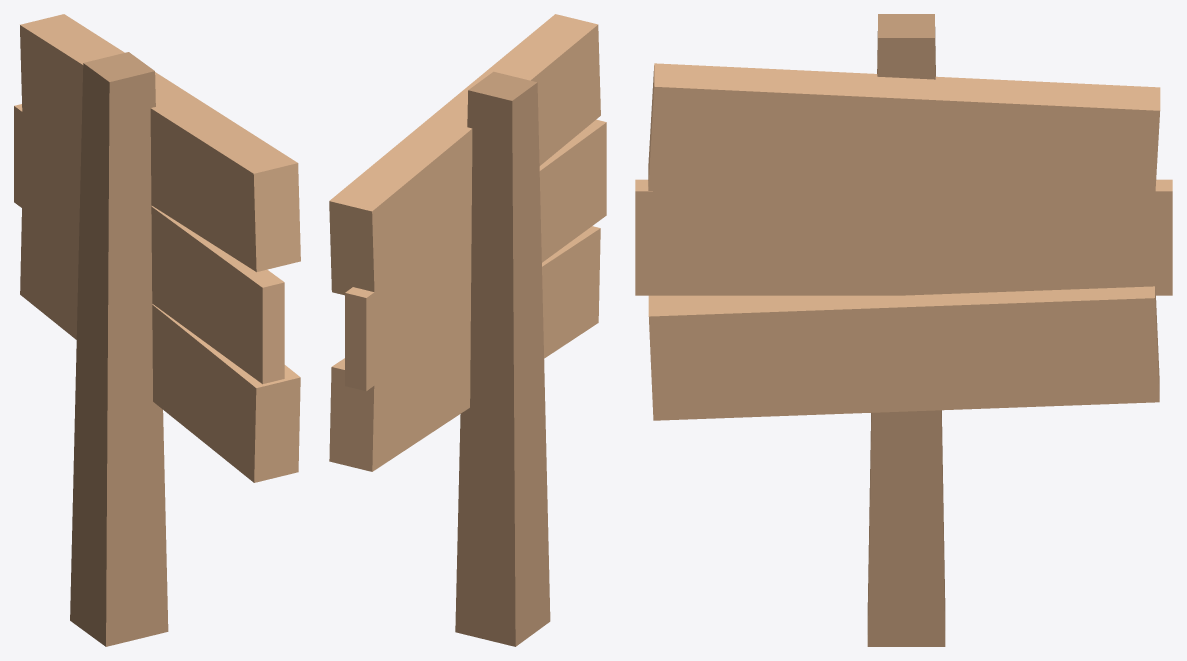
Rendered from sign.glb.
The picture shows the model from 3 angles, left to right: view 1: azimuth 30°, elevation 25°; view 2: azimuth 150°, elevation 25°; view 3: azimuth 270°, elevation 25°; orthographic projection. The views are drawn at different scales.
Visible parts, largest first — view 1: sign(Clone); view 2: sign(Clone); view 3: sign(Clone).
Boxes of the visible parts, x1,y1,x2,y2 form: sign(Clone): (14,14,300,646); sign(Clone): (329,14,606,646); sign(Clone): (635,14,1172,646).
Bounding box in the file's own units: 0.105 × 0.6 × 0.4835.
